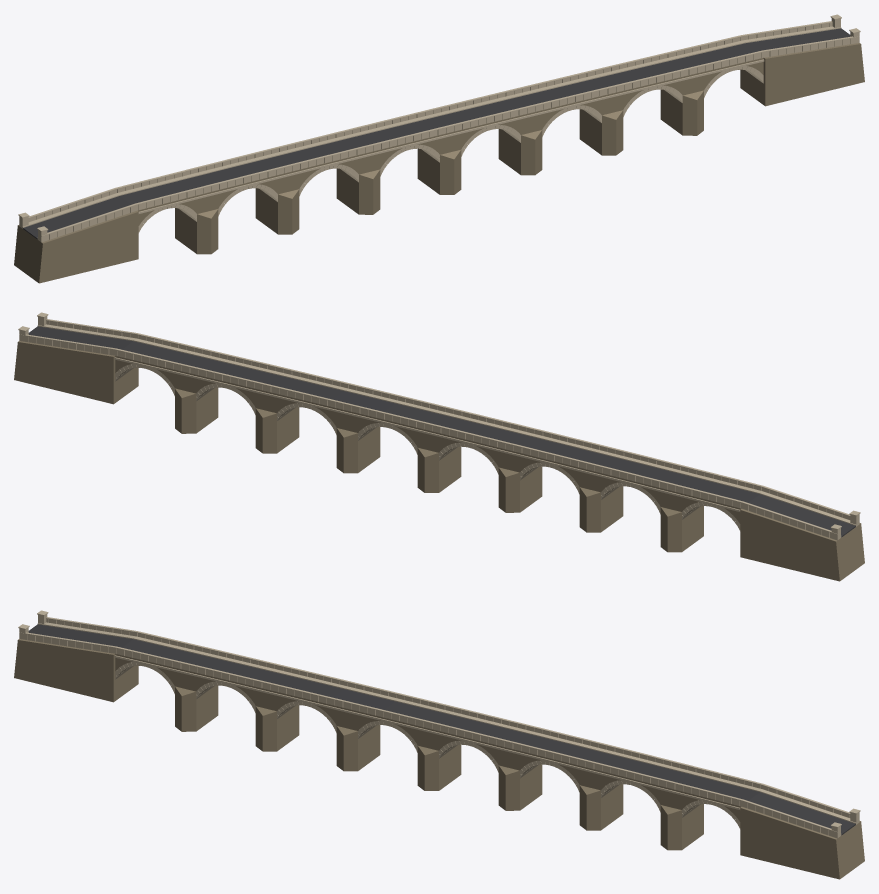
File: rome_pons_agrippae.glb
3 views of the same model, one above another, from view 1: azimuth 30°, elevation 25°; view 2: azimuth 150°, elevation 25°; view 3: azimuth 330°, elevation 25° (orthographic).
Visible parts, largest first — view 1: rome_pons_agrippae; view 2: rome_pons_agrippae; view 3: rome_pons_agrippae.
Boxes of the visible parts, box(x1,y1,x2,y2) form: rome_pons_agrippae: box(14, 14, 864, 283); rome_pons_agrippae: box(14, 312, 864, 581); rome_pons_agrippae: box(14, 610, 864, 879).
Size of the model in its own units: 194 by 14.9 by 12.
